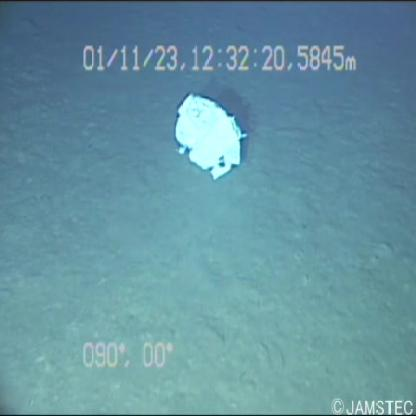Rác: (163, 83, 253, 186)
